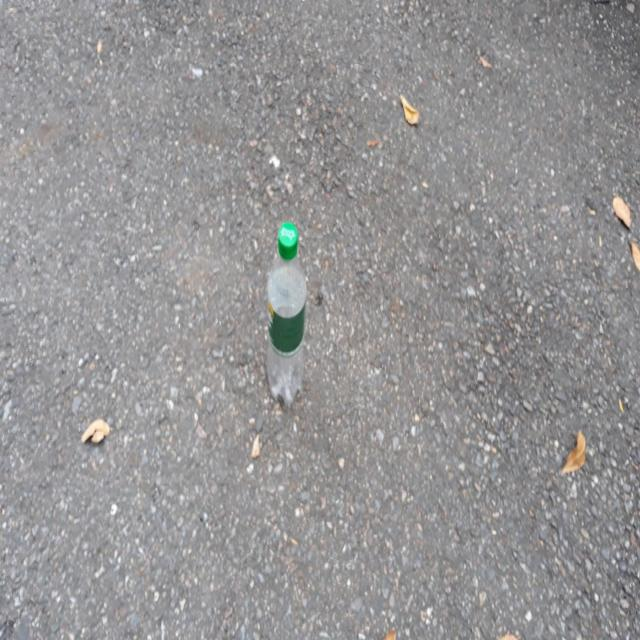plastic: (267, 222, 307, 407)
